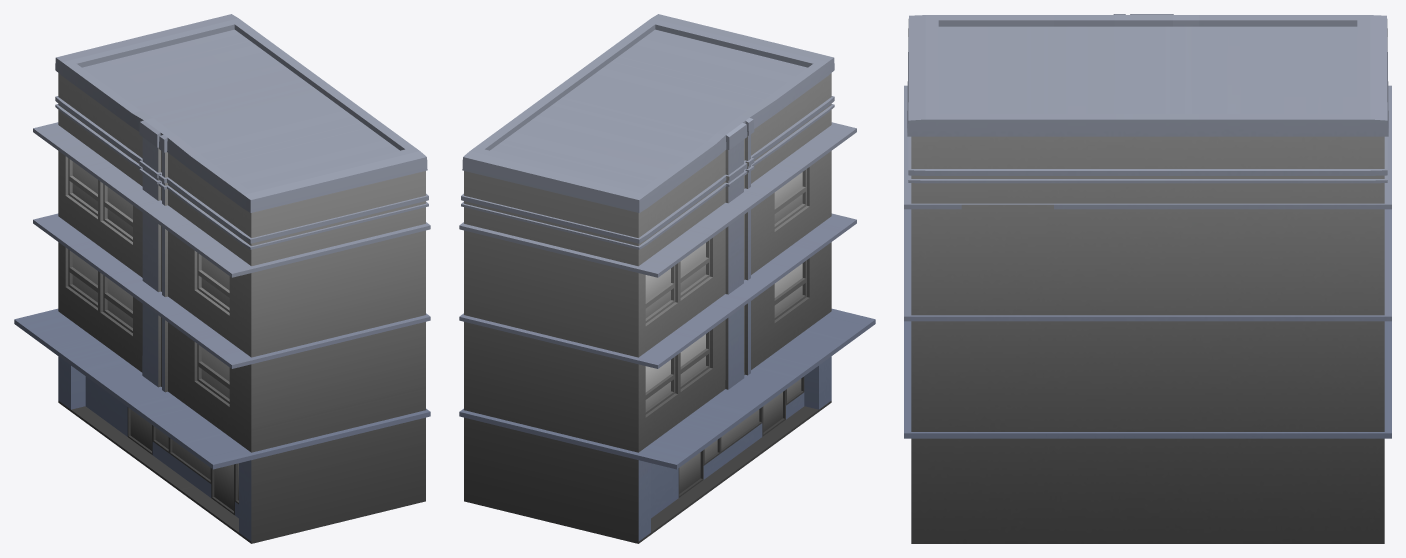
The model's file is miami_building_006.FBX.
3 views of the same model, side by side, from view 1: azimuth 30°, elevation 25°; view 2: azimuth 150°, elevation 25°; view 3: azimuth 270°, elevation 25° (orthographic). The views are drawn at different scales.
Parts seen in each view (by area): view 1: Box006; view 2: Box006; view 3: Box006.
Part boxes in pixels (x1,y1,x2,y2): Box006: (14, 14, 430, 543); Box006: (459, 14, 875, 543); Box006: (904, 14, 1391, 543).
Bounding box in the file's own units: 301 × 455 × 474.
